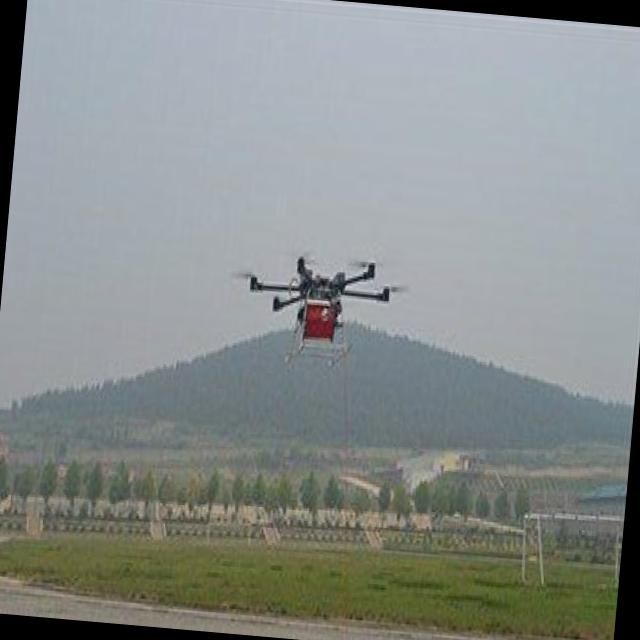drone: (228, 246, 401, 372)
